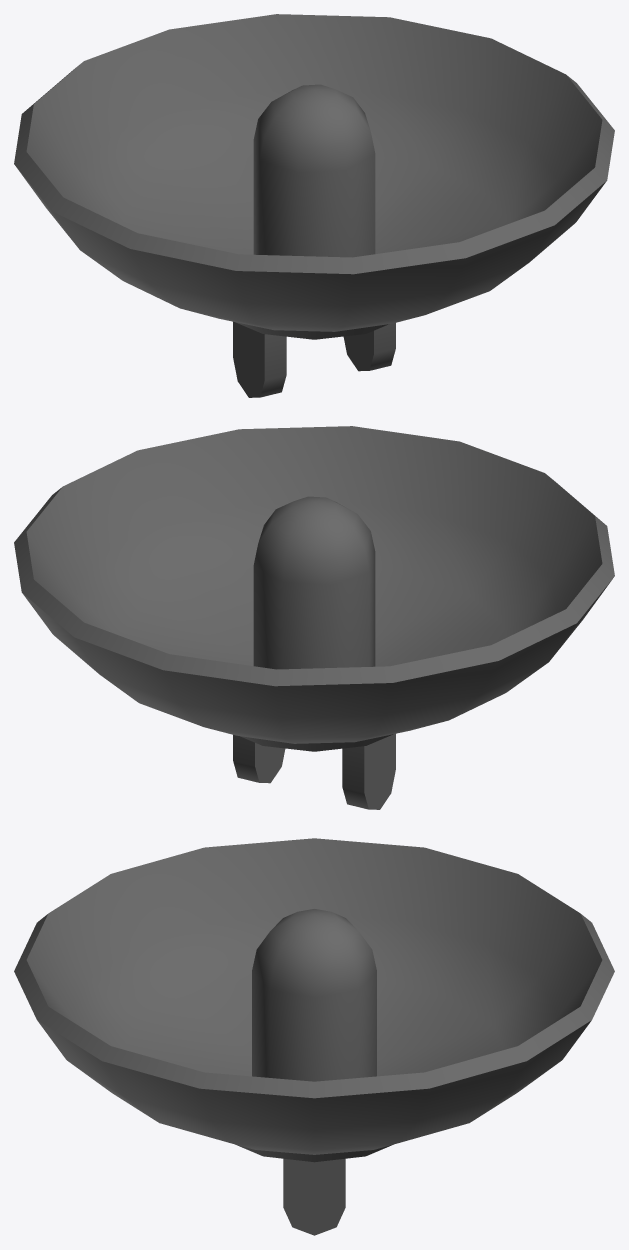
The model's file is Tantares_Antenna_2_1.obj.
The picture shows the model from 3 angles, top to bottom: view 1: azimuth 30°, elevation 25°; view 2: azimuth 150°, elevation 25°; view 3: azimuth 270°, elevation 25°; orthographic projection.
Visible parts, largest first — view 1: Tantares_Antenna_2_1; view 2: Tantares_Antenna_2_1; view 3: Tantares_Antenna_2_1.
Part boxes in pixels (left/top/right/bottom): Tantares_Antenna_2_1: left=14, top=14, right=614, bottom=397; Tantares_Antenna_2_1: left=14, top=426, right=614, bottom=809; Tantares_Antenna_2_1: left=14, top=838, right=614, bottom=1235.
Bounding box in the file's own units: 0.3 × 0.1594 × 0.3.
